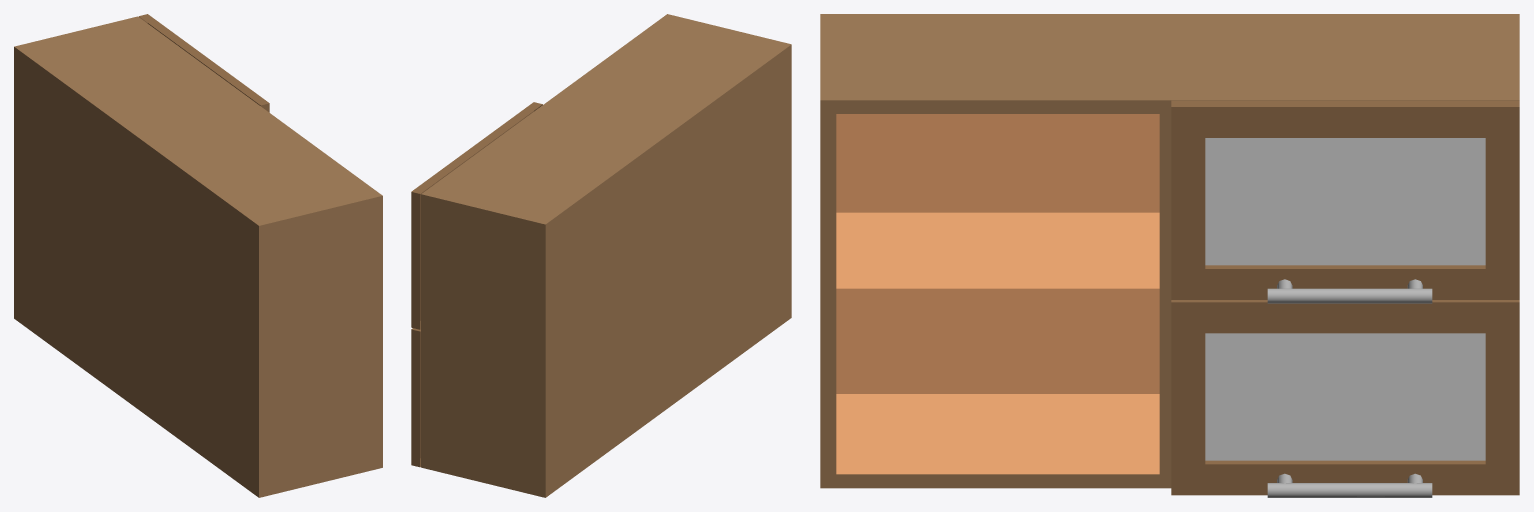
File: kitchen_shelf_1.FBX
The picture shows the model from 3 angles, left to right: view 1: azimuth 30°, elevation 25°; view 2: azimuth 150°, elevation 25°; view 3: azimuth 270°, elevation 25°; orthographic projection. The views are drawn at different scales.
Parts seen in each view (by area): view 1: kitchen_shelf_1; view 2: kitchen_shelf_1; view 3: kitchen_shelf_1.
Part boxes in pixels (x1,y1,x2,y2): kitchen_shelf_1: (14, 14, 382, 497); kitchen_shelf_1: (411, 14, 791, 497); kitchen_shelf_1: (820, 14, 1519, 497).
Size of the model in its own units: 0.3726 by 0.6301 by 1.03.
